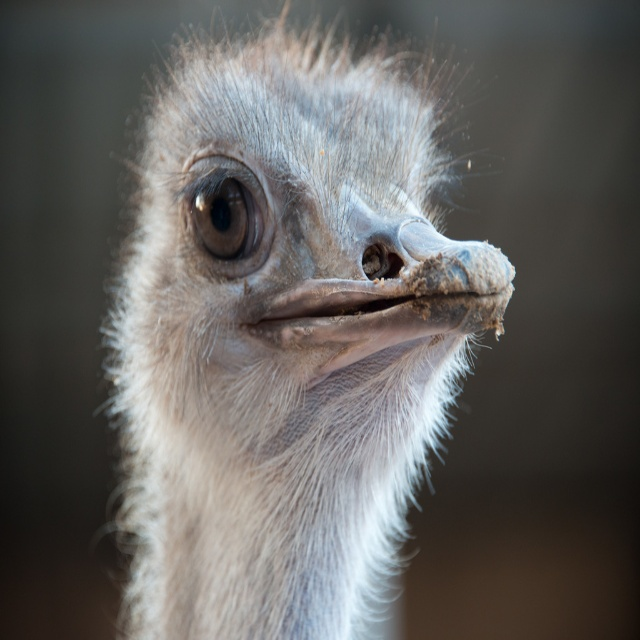Ostrich: (116, 16, 516, 638)
